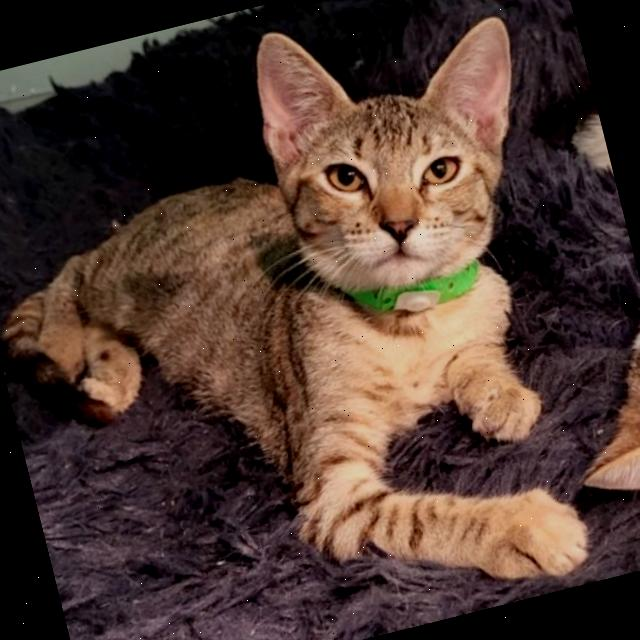domestic_short_hair_cat: (214, 0, 581, 373)
